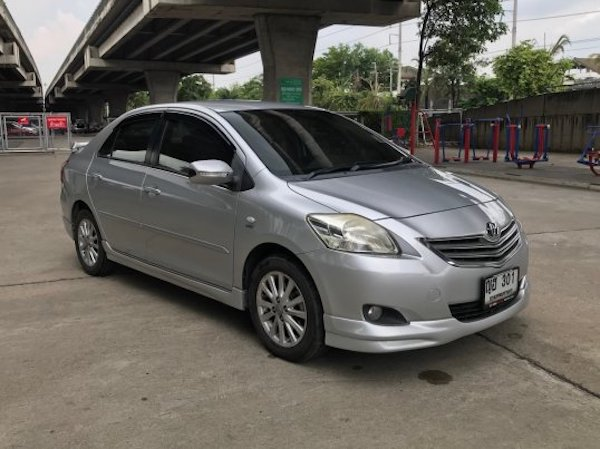sedan: (57, 98, 533, 364)
